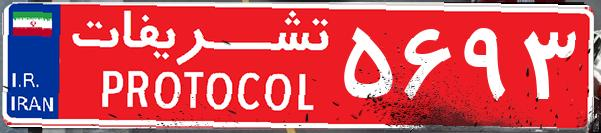3: (520, 20, 580, 115)
5: (340, 20, 400, 115)
6: (400, 20, 460, 115)
9: (460, 20, 520, 115)
تشریفات: (60, 8, 340, 125)
